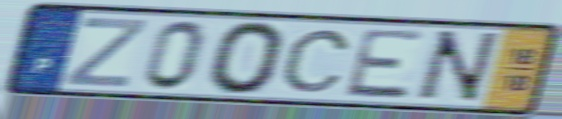0: (140, 17, 208, 93)
C: (278, 27, 355, 95)
E: (341, 27, 429, 102)
N: (409, 28, 504, 105)
O: (205, 19, 289, 98)
Z: (60, 15, 151, 90)
